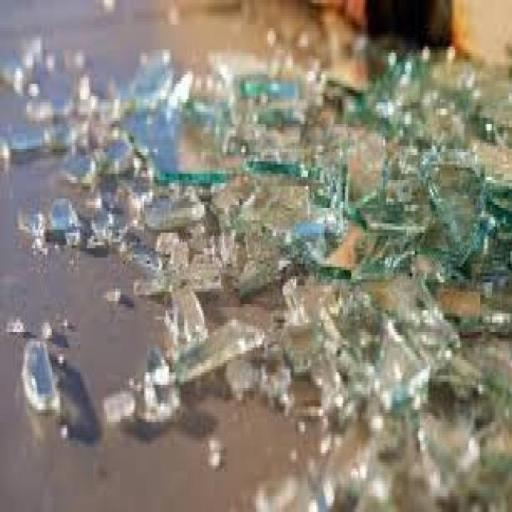glass: (180, 61, 316, 163), (228, 170, 346, 282), (422, 144, 493, 278), (134, 226, 229, 300), (353, 273, 449, 345), (172, 314, 266, 386), (312, 418, 378, 506), (122, 96, 185, 174), (371, 324, 428, 410), (362, 50, 433, 119), (226, 338, 295, 409), (326, 130, 394, 200), (423, 409, 484, 486), (356, 185, 430, 238), (332, 305, 386, 375), (133, 346, 180, 424), (388, 443, 441, 512), (122, 49, 178, 113), (347, 243, 423, 286), (278, 312, 329, 376), (179, 116, 237, 172), (281, 278, 336, 336), (430, 342, 486, 397), (262, 26, 317, 82), (20, 337, 59, 415), (6, 310, 76, 352), (428, 54, 486, 101), (146, 190, 207, 234), (464, 136, 512, 190), (2, 118, 70, 156), (449, 302, 512, 342), (168, 283, 208, 343), (307, 161, 348, 218), (236, 253, 286, 299), (470, 354, 512, 408), (307, 352, 343, 412), (252, 469, 301, 512), (423, 100, 463, 146), (240, 74, 300, 102), (0, 44, 35, 91), (188, 68, 228, 108), (59, 149, 98, 188), (98, 135, 134, 176), (48, 195, 80, 241), (264, 182, 310, 214), (128, 244, 166, 282), (88, 88, 122, 130), (324, 70, 371, 100), (471, 110, 508, 148), (210, 181, 246, 219), (0, 271, 34, 311), (16, 207, 50, 246), (102, 387, 136, 426), (188, 95, 231, 125), (88, 206, 119, 245), (123, 132, 153, 172), (87, 113, 115, 152), (122, 183, 148, 223), (132, 274, 170, 300), (145, 344, 169, 384), (24, 95, 55, 125), (19, 34, 44, 70), (63, 45, 89, 77), (373, 94, 400, 124), (267, 42, 287, 80), (206, 435, 224, 471), (76, 71, 93, 106), (4, 314, 26, 336), (0, 136, 12, 164)
